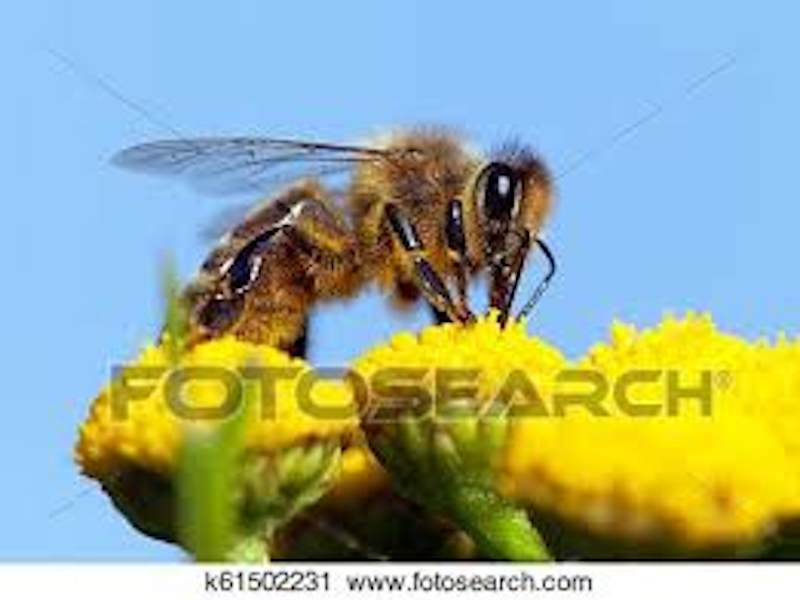abeja: (97, 100, 591, 394)
